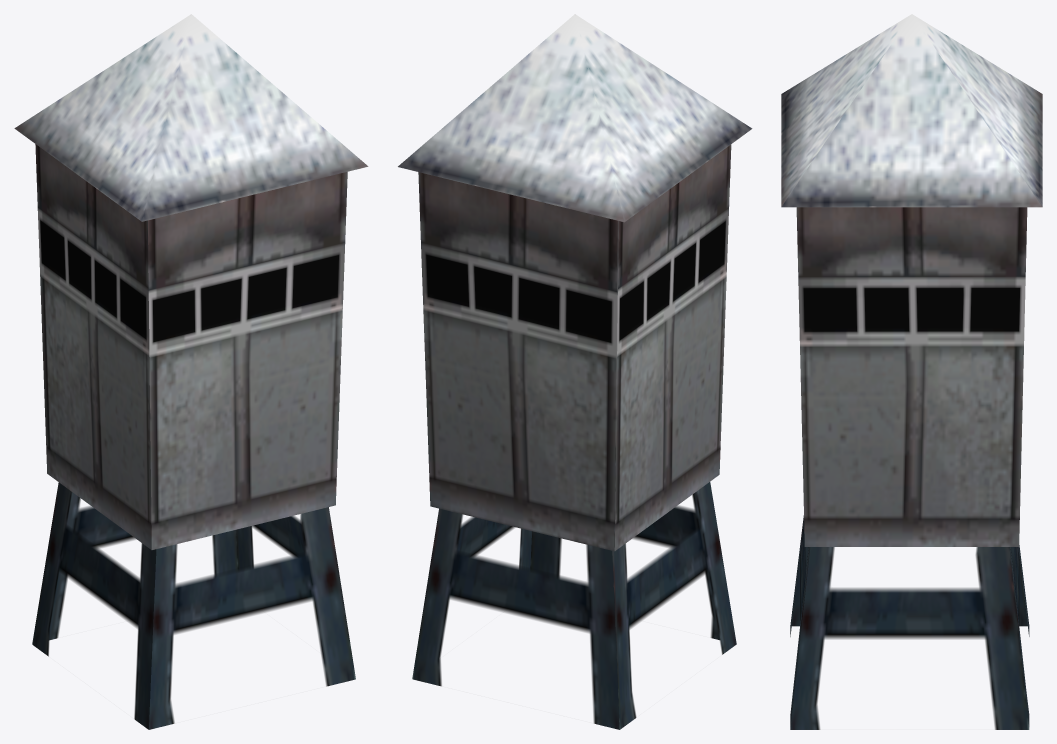
File: Civilian - Infrastructure - Generic Bridge Tower - Snow - CBBIn01_S.glb
The picture shows the model from 3 angles, left to right: view 1: azimuth 30°, elevation 25°; view 2: azimuth 150°, elevation 25°; view 3: azimuth 270°, elevation 25°; orthographic projection. The views are drawn at different scales.
Parts seen in each view (by area): view 1: CBBIN01_S; view 2: CBBIN01_S; view 3: CBBIN01_S.
Part boxes in pixels (<box>): CBBIN01_S: <box>14,14,368,729</box>; CBBIN01_S: <box>398,14,752,729</box>; CBBIN01_S: <box>781,14,1042,729</box>.
Bounding box in the file's own units: 12.14 × 33.15 × 11.84.
Materials: 1 (1 with a texture image).
